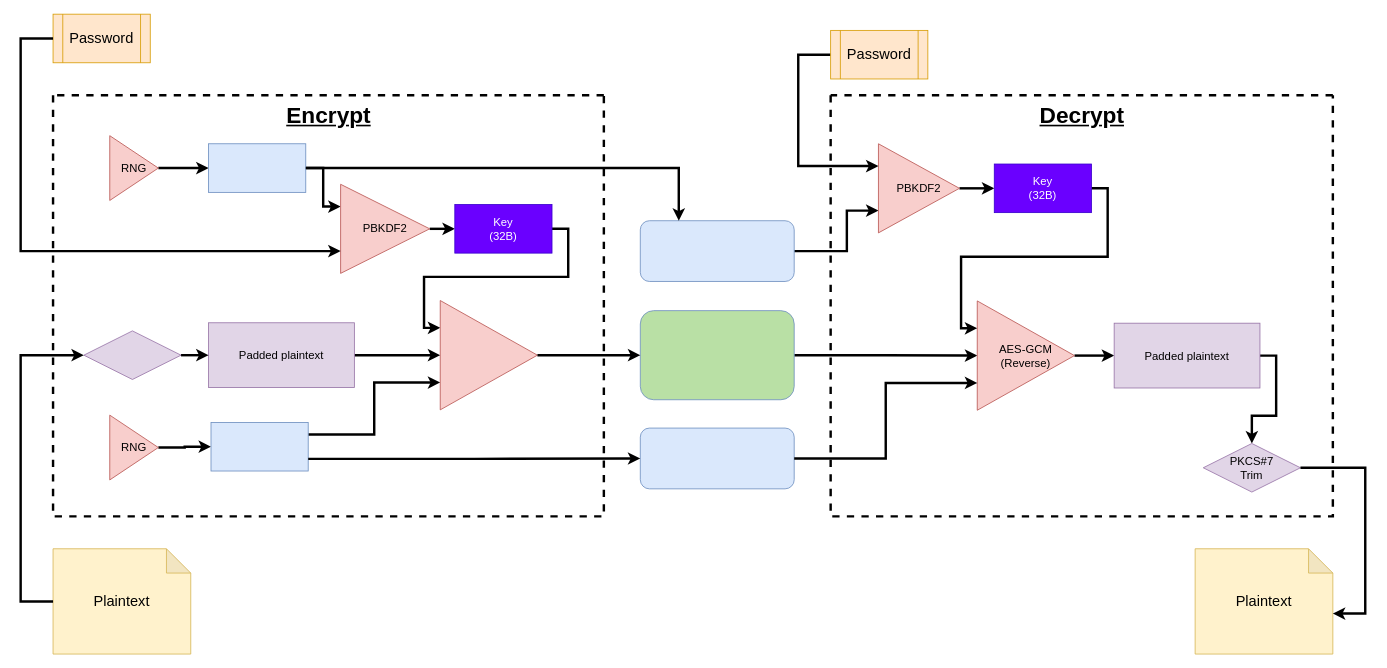
Image size: 1387x668. Some labels were removed from this diagram. Each missing label, with the centre of its shape:
AES-GCM (SHA-256): pixel 488 355
Ciphertext: pixel 716 355
IV: pixel 716 458
IV (16B): pixel 259 446
PKCS#7 Pad: pixel 132 354
Salt: pixel 716 250
Salt (32B): pixel 257 167
